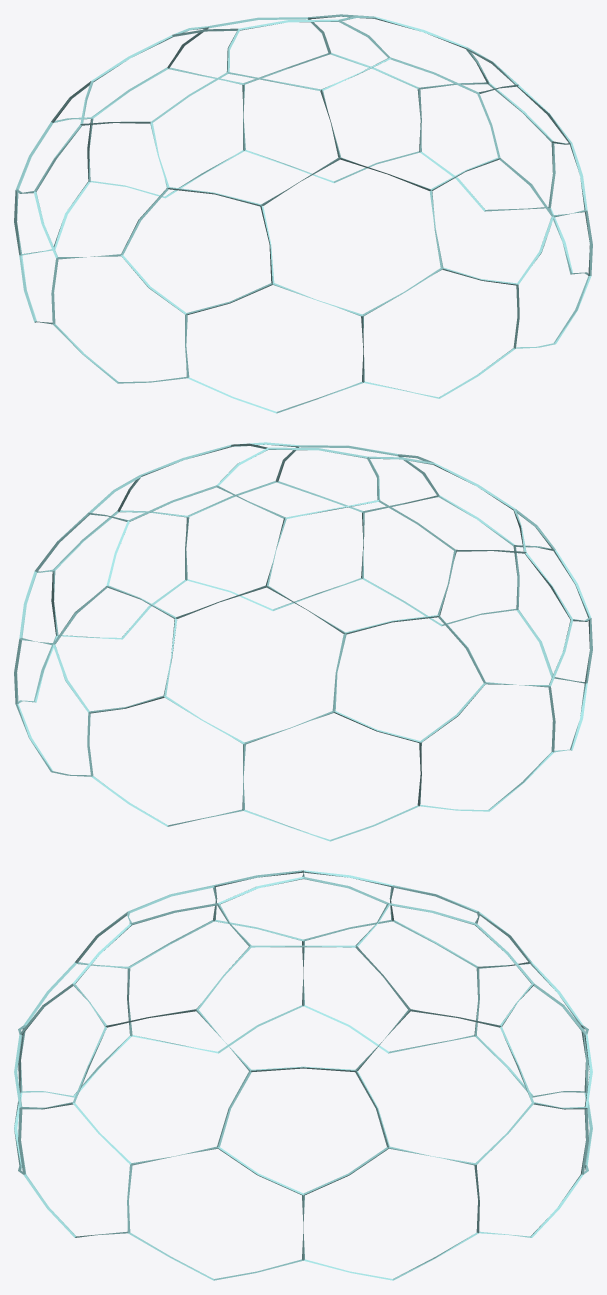
The model's file is fizikKALKAN.fbx.
3 views of the same model, one above another, from view 1: azimuth 30°, elevation 25°; view 2: azimuth 150°, elevation 25°; view 3: azimuth 270°, elevation 25° (orthographic). The views are drawn at different scales.
Visible parts, largest first — view 1: Icosphere; view 2: Icosphere; view 3: Icosphere.
Part boxes in pixels (bbox=[...]): Icosphere: bbox=[14, 14, 592, 413]; Icosphere: bbox=[14, 442, 592, 841]; Icosphere: bbox=[14, 870, 592, 1280].
Bounding box in the file's own units: 186 × 86.67 × 179.
